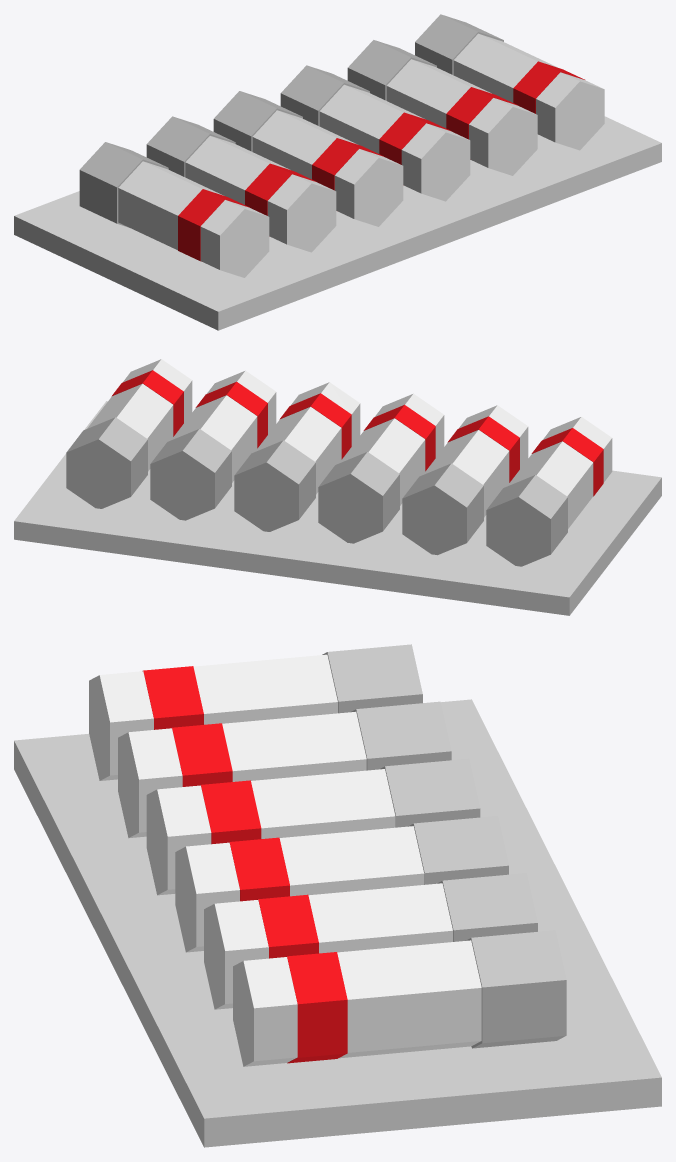
The model's file is ce_ammo_shotgun_beanbag_b.obj.
The picture shows the model from 3 angles, top to bottom: view 1: azimuth 30°, elevation 25°; view 2: azimuth 150°, elevation 25°; view 3: azimuth 270°, elevation 25°; orthographic projection. The views are drawn at different scales.
Parts seen in each view (by area): view 1: ce_ammo_shotgun_beanbag_b_0, ce_ammo_shotgun_beanbag_b_2, ce_ammo_shotgun_beanbag_b_4, ce_ammo_shotgun_beanbag_b_16, ce_ammo_shotgun_beanbag_b_12, ce_ammo_shotgun_beanbag_b_8, ce_ammo_shotgun_beanbag_b_24, ce_ammo_shotgun_beanbag_b_20, ce_ammo_shotgun_beanbag_b_18, ce_ammo_shotgun_beanbag_b_14, ce_ammo_shotgun_beanbag_b_22, ce_ammo_shotgun_beanbag_b_6 (+13 smaller); view 2: ce_ammo_shotgun_beanbag_b_0, ce_ammo_shotgun_beanbag_b_5, ce_ammo_shotgun_beanbag_b_1, ce_ammo_shotgun_beanbag_b_13, ce_ammo_shotgun_beanbag_b_17, ce_ammo_shotgun_beanbag_b_21, ce_ammo_shotgun_beanbag_b_9, ce_ammo_shotgun_beanbag_b_2, ce_ammo_shotgun_beanbag_b_18, ce_ammo_shotgun_beanbag_b_14, ce_ammo_shotgun_beanbag_b_6, ce_ammo_shotgun_beanbag_b_10 (+13 smaller); view 3: ce_ammo_shotgun_beanbag_b_0, ce_ammo_shotgun_beanbag_b_22, ce_ammo_shotgun_beanbag_b_21, ce_ammo_shotgun_beanbag_b_6, ce_ammo_shotgun_beanbag_b_14, ce_ammo_shotgun_beanbag_b_10, ce_ammo_shotgun_beanbag_b_18, ce_ammo_shotgun_beanbag_b_2, ce_ammo_shotgun_beanbag_b_24, ce_ammo_shotgun_beanbag_b_23, ce_ammo_shotgun_beanbag_b_5, ce_ammo_shotgun_beanbag_b_13 (+13 smaller).
Boxes of the visible parts, x1,y1,x2,y2 form: ce_ammo_shotgun_beanbag_b_0: [14, 116, 661, 330]; ce_ammo_shotgun_beanbag_b_2: [118, 161, 223, 250]; ce_ammo_shotgun_beanbag_b_4: [200, 200, 269, 277]; ce_ammo_shotgun_beanbag_b_16: [401, 123, 470, 201]; ce_ammo_shotgun_beanbag_b_12: [334, 149, 403, 226]; ce_ammo_shotgun_beanbag_b_8: [267, 174, 336, 252]; ce_ammo_shotgun_beanbag_b_24: [536, 72, 604, 150]; ce_ammo_shotgun_beanbag_b_20: [469, 98, 537, 175]; ce_ammo_shotgun_beanbag_b_18: [386, 59, 491, 128]; ce_ammo_shotgun_beanbag_b_14: [319, 84, 424, 153]; ce_ammo_shotgun_beanbag_b_22: [453, 33, 558, 102]; ce_ammo_shotgun_beanbag_b_6: [185, 136, 289, 204]; ce_ammo_shotgun_beanbag_b_0: [14, 401, 661, 615]; ce_ammo_shotgun_beanbag_b_5: [402, 463, 483, 555]; ce_ammo_shotgun_beanbag_b_1: [486, 475, 567, 566]; ce_ammo_shotgun_beanbag_b_13: [234, 440, 315, 531]; ce_ammo_shotgun_beanbag_b_17: [150, 429, 231, 520]; ce_ammo_shotgun_beanbag_b_21: [66, 417, 147, 508]; ce_ammo_shotgun_beanbag_b_9: [318, 452, 399, 543]; ce_ammo_shotgun_beanbag_b_2: [507, 441, 593, 528]; ce_ammo_shotgun_beanbag_b_18: [171, 395, 257, 482]; ce_ammo_shotgun_beanbag_b_14: [255, 406, 341, 494]; ce_ammo_shotgun_beanbag_b_6: [423, 430, 509, 517]; ce_ammo_shotgun_beanbag_b_10: [339, 418, 425, 505]; ce_ammo_shotgun_beanbag_b_0: [14, 699, 661, 1147]; ce_ammo_shotgun_beanbag_b_22: [337, 940, 481, 1058]; ce_ammo_shotgun_beanbag_b_21: [465, 930, 566, 1048]; ce_ammo_shotgun_beanbag_b_6: [222, 711, 366, 781]; ce_ammo_shotgun_beanbag_b_14: [279, 826, 424, 896]; ce_ammo_shotgun_beanbag_b_10: [251, 769, 395, 838]; ce_ammo_shotgun_beanbag_b_18: [308, 883, 452, 953]; ce_ammo_shotgun_beanbag_b_2: [193, 654, 337, 724]; ce_ammo_shotgun_beanbag_b_24: [233, 957, 297, 1066]; ce_ammo_shotgun_beanbag_b_23: [286, 952, 347, 1063]; ce_ammo_shotgun_beanbag_b_5: [351, 701, 451, 770]; ce_ammo_shotgun_beanbag_b_13: [408, 816, 508, 884].
Size of the model in its own units: 0.9326 by 0.1427 by 0.6092.
